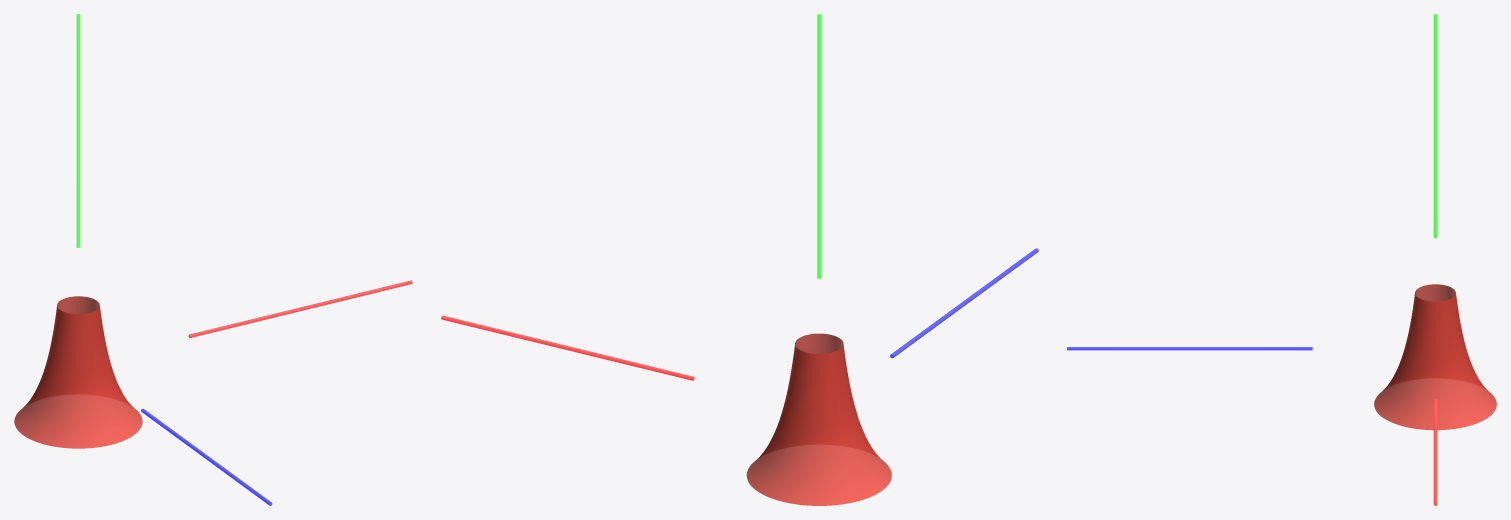
File: solid-of-revolution-reciprocal.glb
The picture shows the model from 3 angles, left to right: view 1: azimuth 30°, elevation 25°; view 2: azimuth 150°, elevation 25°; view 3: azimuth 270°, elevation 25°; orthographic projection. The views are drawn at different scales.
Bounding box in the file's own units: 1.75 × 1.75 × 1.75.
